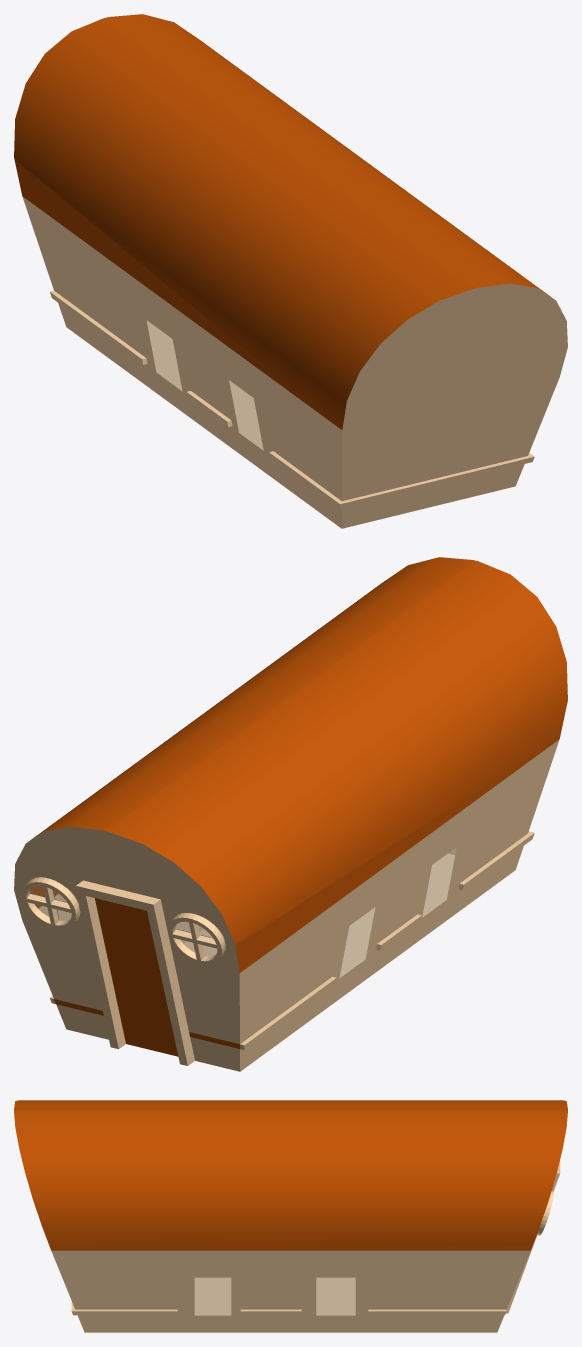
Rendered from Player_Trailer(V2.7).fbx.
The picture shows the model from 3 angles, top to bottom: view 1: azimuth 30°, elevation 25°; view 2: azimuth 150°, elevation 25°; view 3: azimuth 270°, elevation 25°; orthographic projection. The views are drawn at different scales.
Parts seen in each view (by area): view 1: Trailer; view 2: Trailer; view 3: Trailer.
Part boxes in pixels (box(x1,y1,x2,y2)): Trailer: box(14, 14, 567, 528); Trailer: box(14, 557, 567, 1071); Trailer: box(14, 1100, 567, 1332).
Size of the model in its own units: 9460 by 10378 by 27400.
